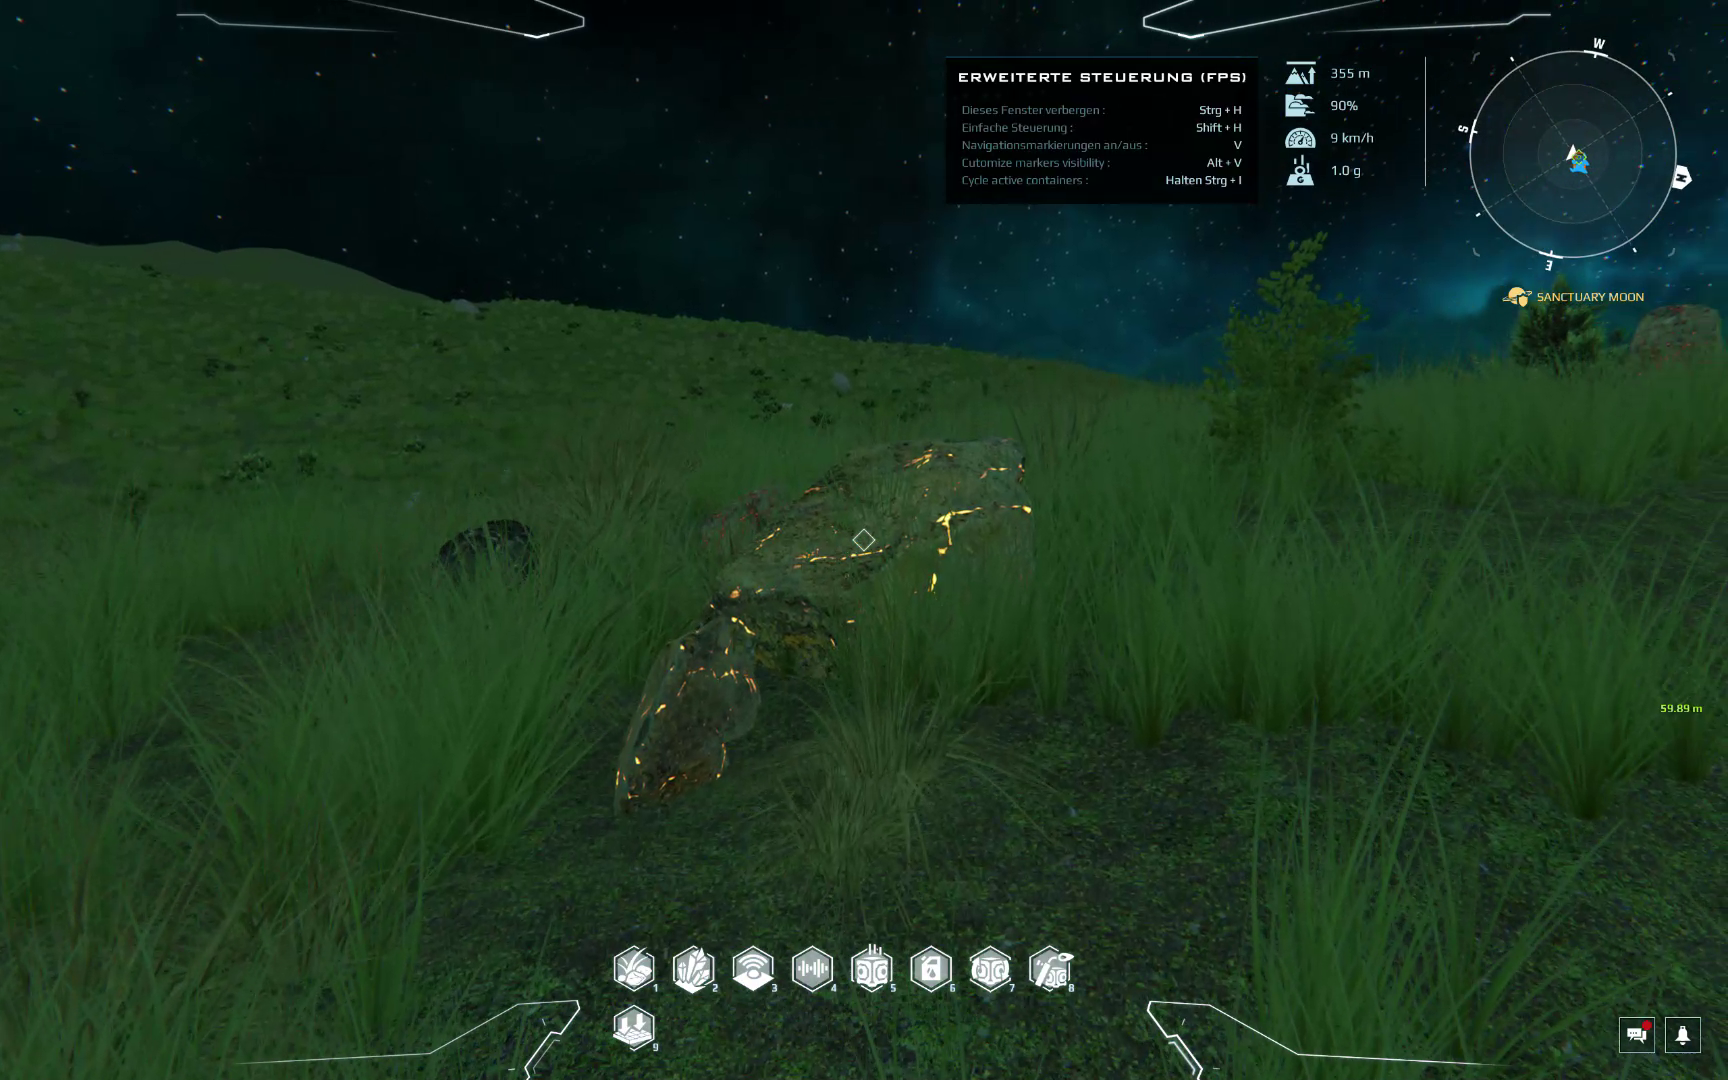Ore: (713, 439, 1039, 686), (616, 622, 754, 808), (430, 516, 546, 596), (689, 499, 799, 571)
